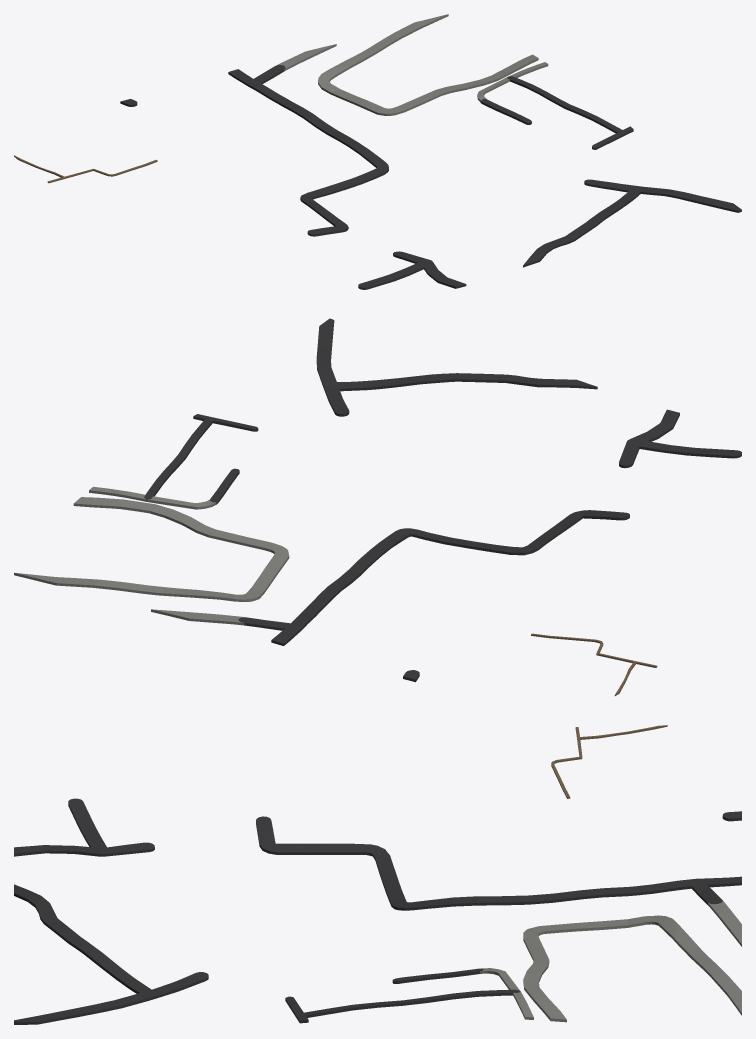
3 renders of one model, top to bottom at view 1: azimuth 30°, elevation 25°; view 2: azimuth 150°, elevation 25°; view 3: azimuth 270°, elevation 25°, orthographic. The views are drawn at different scales.
Size of the model in its own units: 293 by 14.2 by 291.
